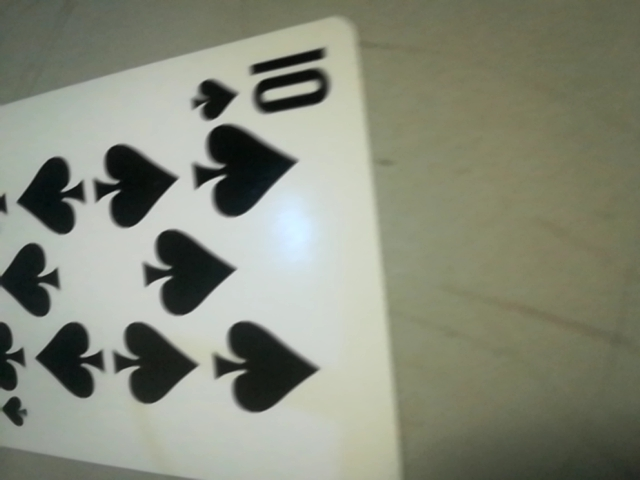ht 10: (190, 45, 353, 132)
